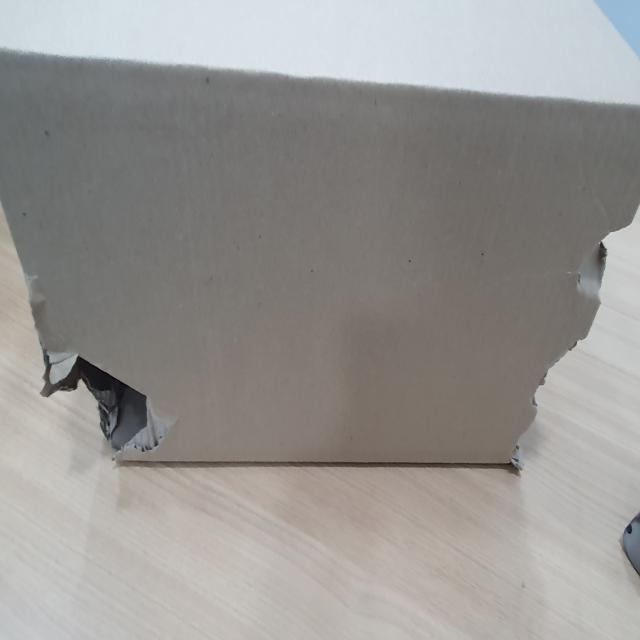hole: (502, 195, 631, 479), (40, 332, 160, 482)
